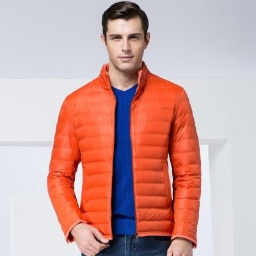face: (101, 1, 151, 71)
